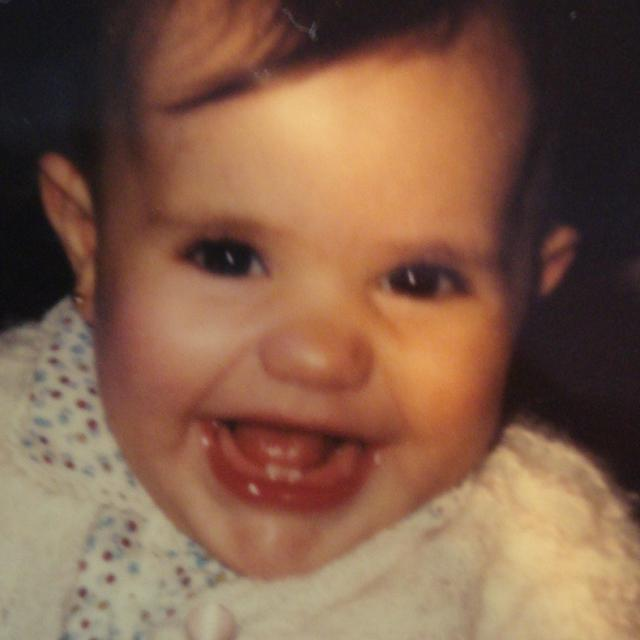Normal: (92, 15, 544, 582)
